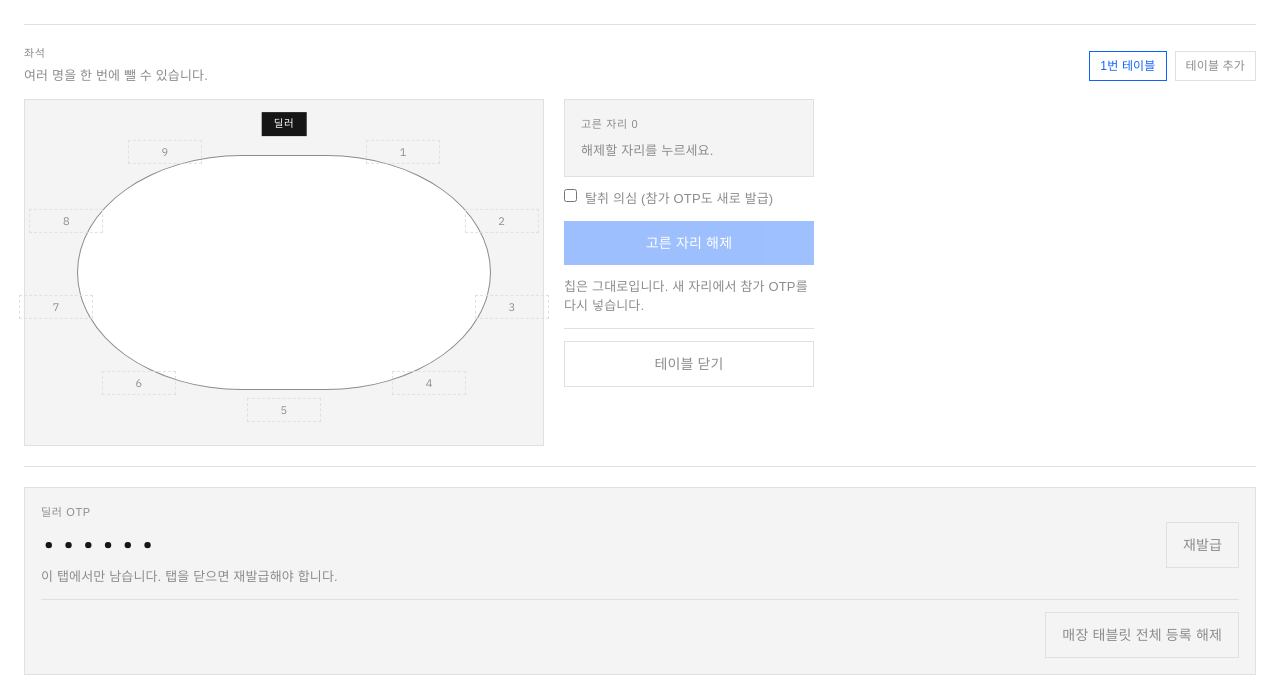
Scenario: ConsoleClient — 딜러 OTP › 재발급하면 화면에 뜬다
The image size is (1280, 699).
(page scrolled)
expect the text with test id "dealer-otp" reads "••••••": met, box [41,526,160,560]
Click the button "재발급". click: (1202, 545)
box: [1166,522,1239,568]
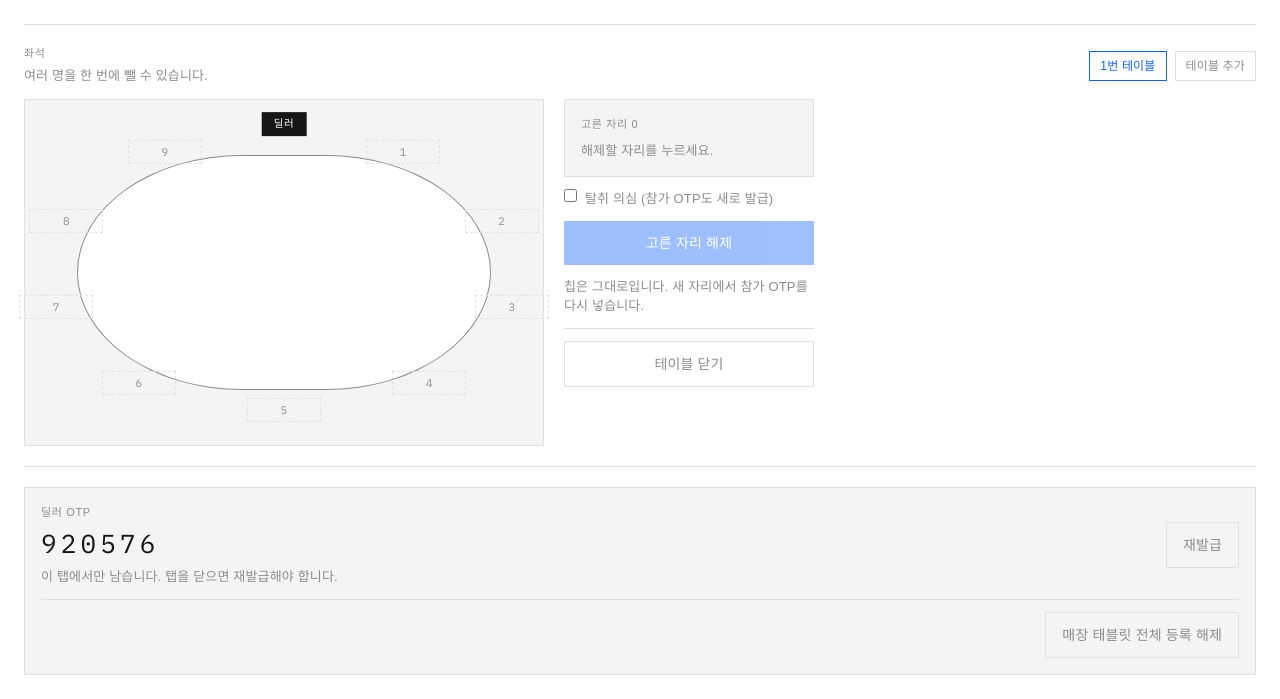
expect the text with test id "dealer-otp" reads "920576": met, box [41,526,160,560]
